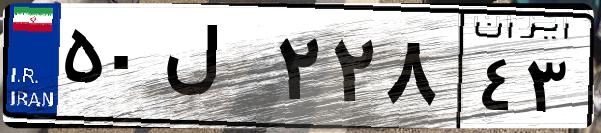0: (110, 28, 158, 98)
2: (270, 28, 330, 110), (330, 28, 385, 110)
3: (525, 38, 570, 115)
4: (475, 38, 525, 113)
5: (57, 26, 110, 100)
8: (385, 28, 445, 110)
ل: (158, 20, 270, 120)
